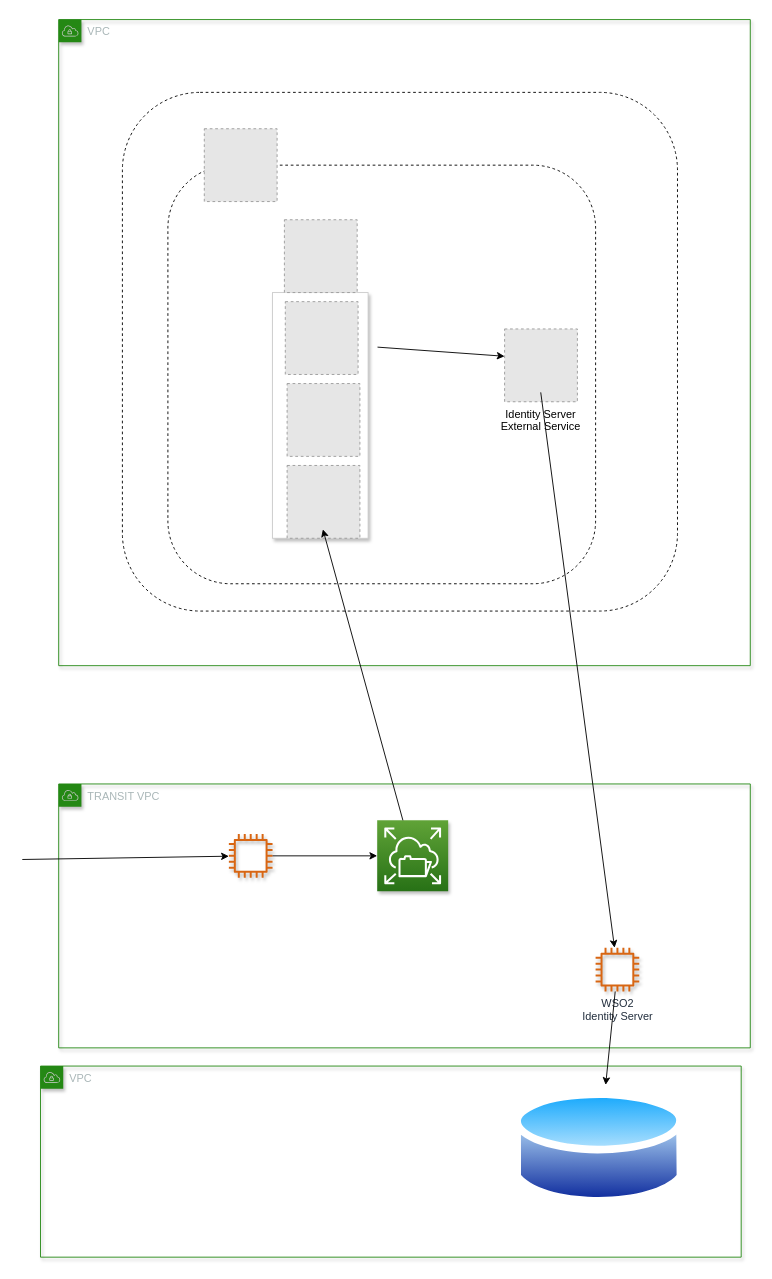
Image size: 772x1279. Some labels were removed from this diagram. Grey dashed boxes stand in for pictures. The centre of each missing label's shape, as x and y in pixels:
"Active DIrectory" belongs at point 598,1147.
"EFS Shared Volume" belongs at point 413,857.
"SFTP Server" belongs at point 251,857.
